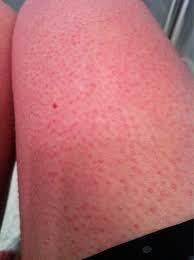Goosebumps: (12, 0, 193, 259)
